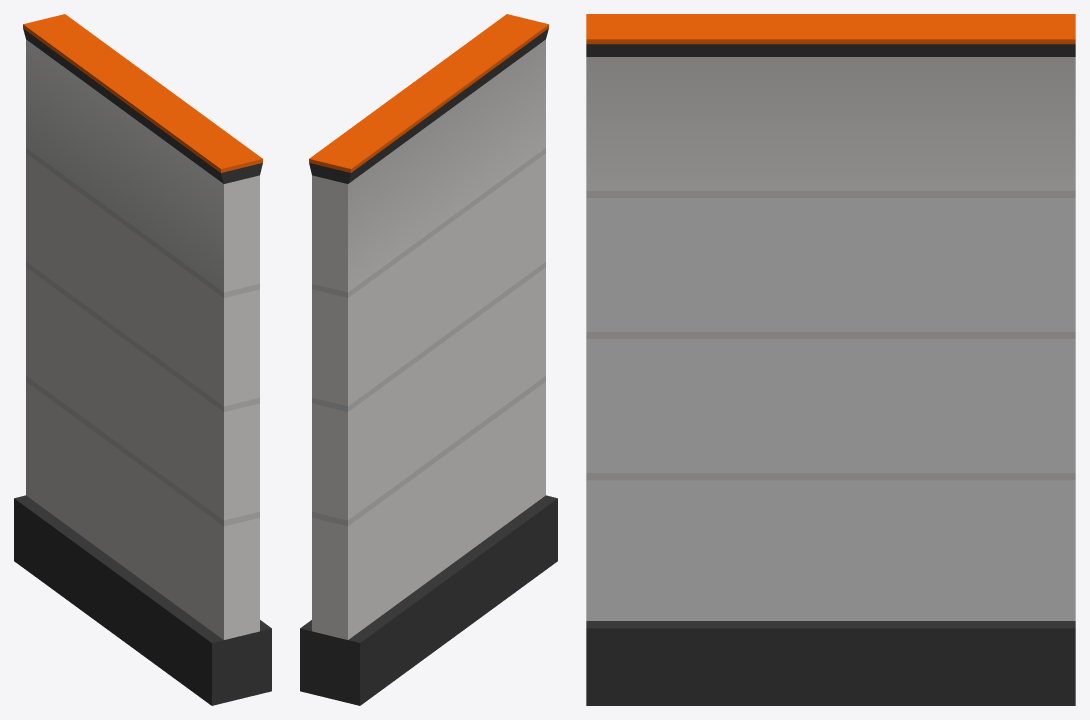
File: wall.gltf
3 renders of one model, left to right at view 1: azimuth 30°, elevation 25°; view 2: azimuth 150°, elevation 25°; view 3: azimuth 270°, elevation 25°, orthographic. The views are drawn at different scales.
Visible parts, largest first — view 1: Cube; view 2: Cube; view 3: Cube.
Boxes of the visible parts, box(x1,y1,x2,y2) form: Cube: box(14, 14, 271, 705); Cube: box(300, 14, 557, 705); Cube: box(586, 14, 1075, 705).
Bounding box in the file's own units: 0.2 × 1.7 × 1.14.
